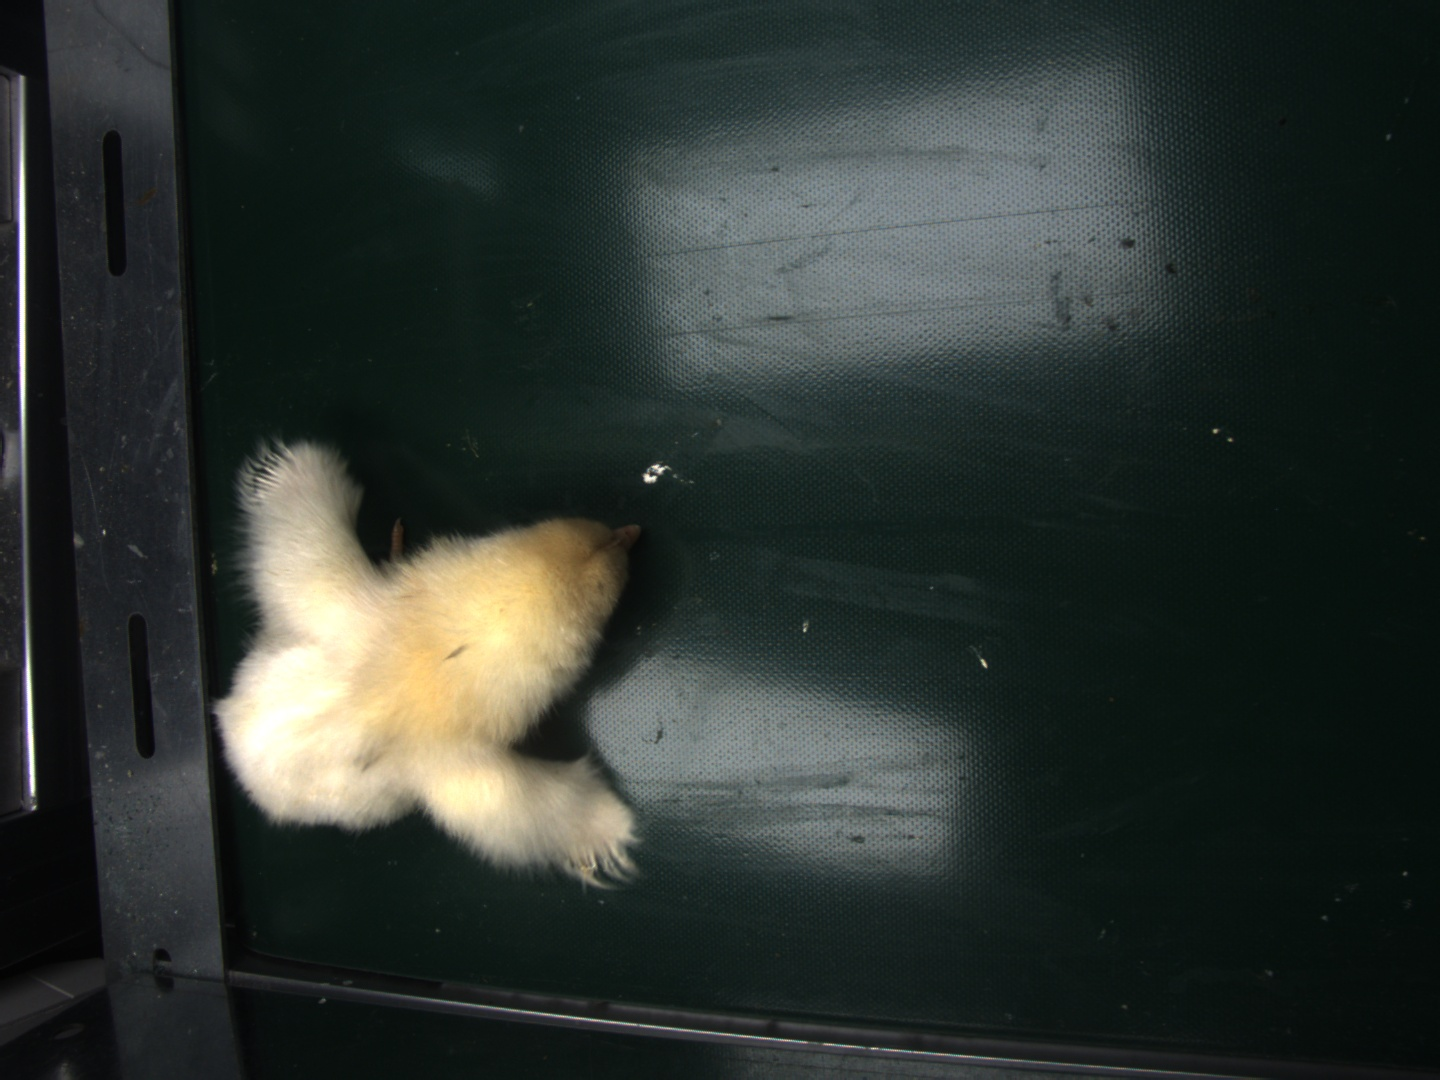male: (249, 440, 297, 509)
